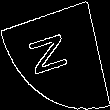N_E: (30, 29, 80, 81)
